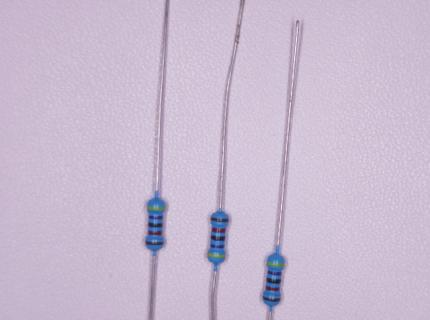Black band: (210, 235, 225, 242), (266, 277, 281, 284), (148, 222, 163, 228)
Brown band: (262, 295, 281, 302), (145, 241, 164, 246), (211, 217, 229, 222)
Red band: (211, 227, 226, 233), (147, 230, 163, 235), (266, 286, 280, 291)
Violet band: (148, 215, 163, 220), (210, 244, 225, 249), (267, 271, 282, 275)
Yellow band: (266, 261, 284, 267), (207, 253, 226, 258), (147, 206, 165, 210)
